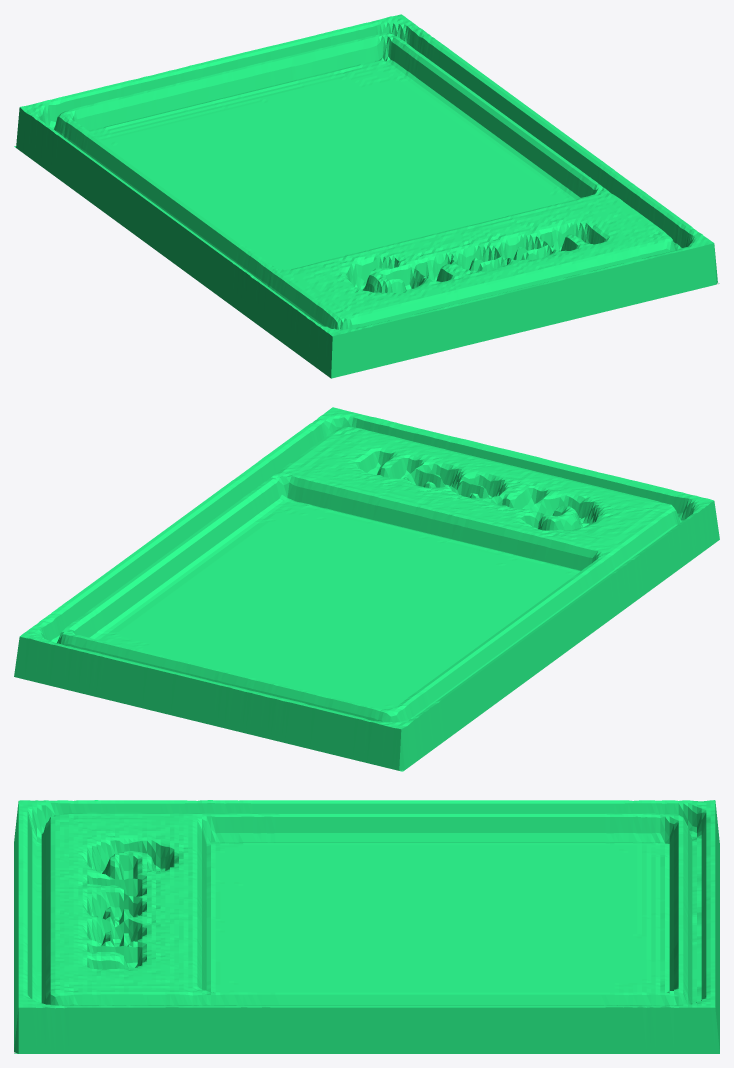
3 renders of one model, top to bottom at view 1: azimuth 30°, elevation 25°; view 2: azimuth 150°, elevation 25°; view 3: azimuth 270°, elevation 25°, orthographic. The views are drawn at different scales.
Parts seen in each view (by area): view 1: imagetostl_mesh0; view 2: imagetostl_mesh0; view 3: imagetostl_mesh0.
Boxes of the visible parts, box(x1,y1,x2,y2) form: imagetostl_mesh0: box(14, 14, 719, 378); imagetostl_mesh0: box(14, 407, 719, 771); imagetostl_mesh0: box(14, 800, 719, 1053).
Size of the model in its own units: 2564 by 254 by 3622.
